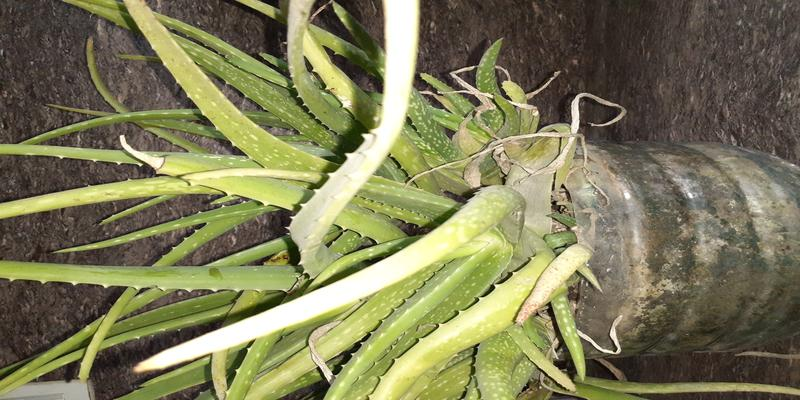Aloevera: (109, 33, 583, 392)
